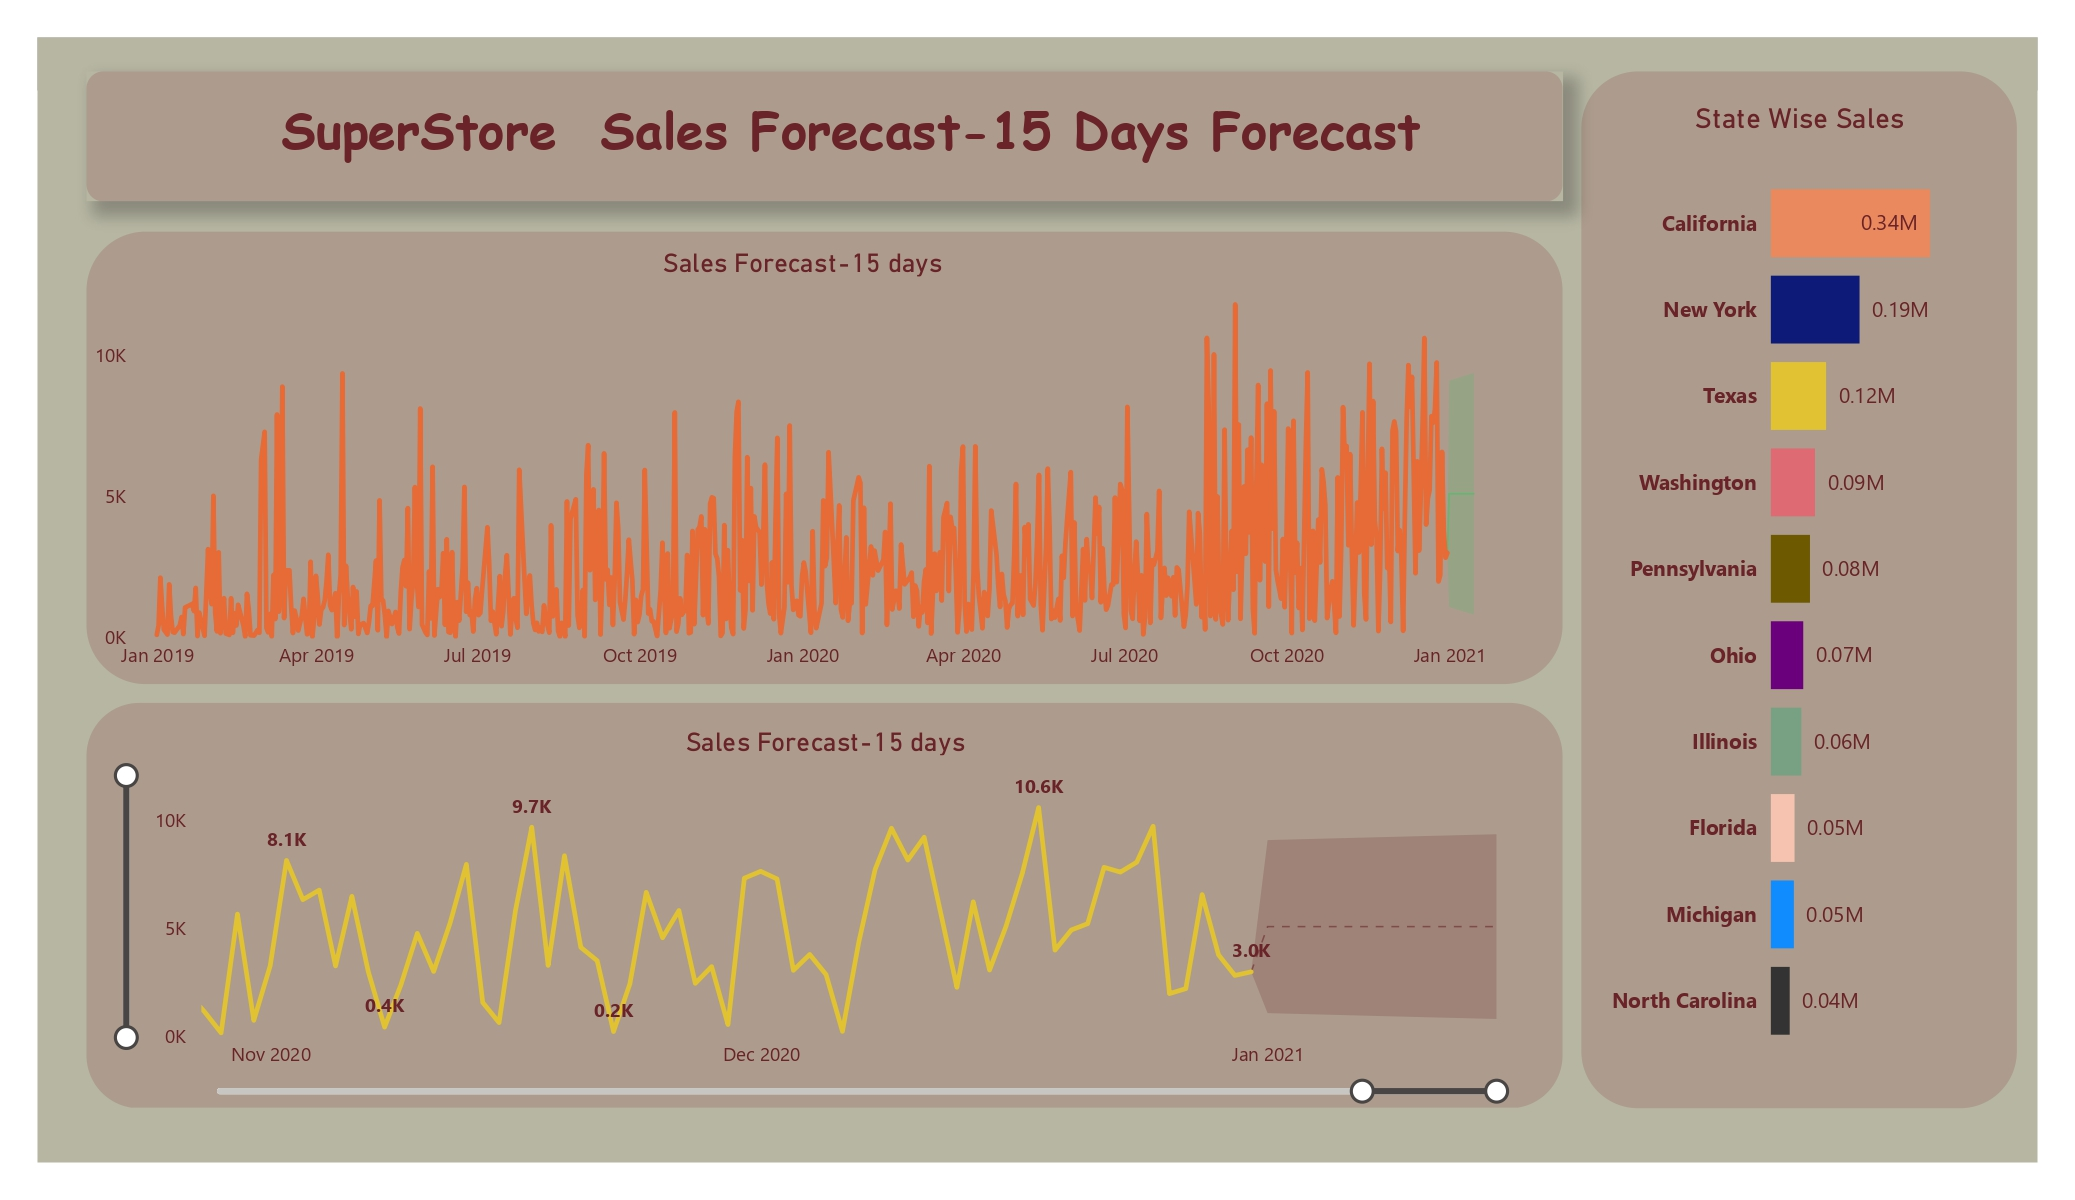

This screenshot's page, from the dashboard's own definition file:
{"tool":"powerbi","page":{"name":"Sales Forecast","canvas":[1280,720],"ordinal":1},"visuals":[{"type":"shape","box":[988.1,21.7,278.7,663.5],"z":0},{"type":"shape","box":[31.4,124.3,944.6,289.5],"z":1000},{"type":"lineChart","title":"Sales Forecast-15 days","fields":{"Y":["Sum(SuperStore_Sales_Dataset.Sales)"],"Category":["SuperStore_Sales_Dataset.Order Date"]},"box":[31.4,133.9,916.9,279.9],"z":2000},{"type":"shape","box":[31.4,21.7,944.6,83.2],"z":3000},{"type":"textbox","box":[112.2,31.4,816.8,63.9],"z":4000},{"type":"shape","box":[31.4,425.9,944.6,259.4],"z":5000},{"type":"lineChart","title":"Sales Forecast-15 days","fields":{"Y":["Sum(SuperStore_Sales_Dataset.Sales)"],"Category":["SuperStore_Sales_Dataset.Order Date"]},"box":[45.8,440.4,916.9,244.9],"z":6000},{"type":"barChart","title":"State Wise Sales","fields":{"Category":["SuperStore_Sales_Dataset.State"],"Y":["Sum(SuperStore_Sales_Dataset.Sales)"]},"box":[1001.3,41,253.4,624.9],"z":7000}]}

Visuals, with their boxes in screenshot pixels (x1, y1, x2, y2):
shape: left=1581, top=71, right=2017, bottom=1108
shape: left=87, top=232, right=1562, bottom=684
"Sales Forecast-15 days" lineChart: left=87, top=247, right=1519, bottom=684
shape: left=87, top=71, right=1562, bottom=201
textbox: left=213, top=87, right=1489, bottom=186
shape: left=87, top=703, right=1562, bottom=1108
"Sales Forecast-15 days" lineChart: left=109, top=726, right=1542, bottom=1108
"State Wise Sales" barChart: left=1602, top=102, right=1998, bottom=1078
